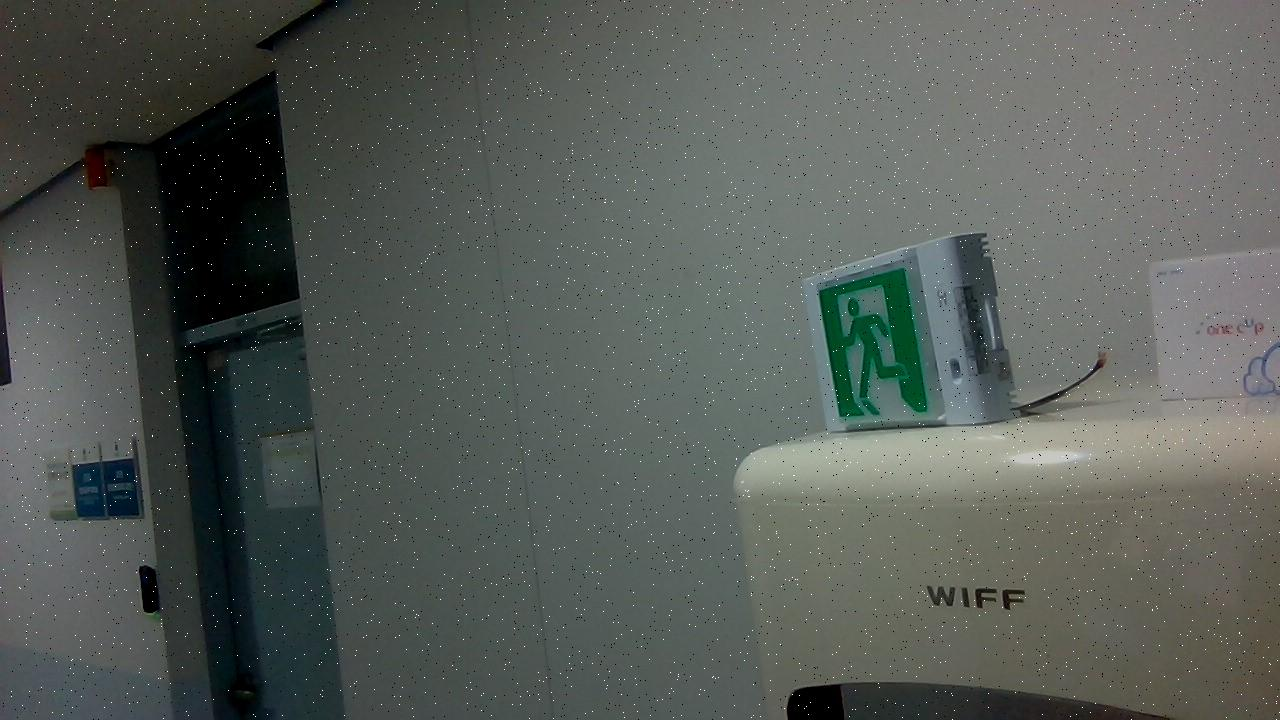emergency_exit: (802, 231, 1015, 433), (1147, 247, 1279, 401)
